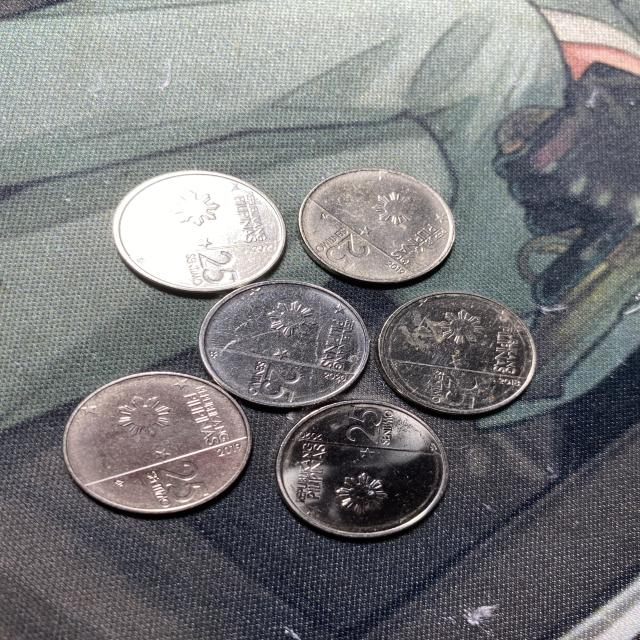25Cent_New_Front: (154, 459, 209, 500), (346, 403, 387, 445), (195, 252, 243, 286), (262, 361, 301, 401), (326, 236, 368, 268), (443, 374, 478, 410)
